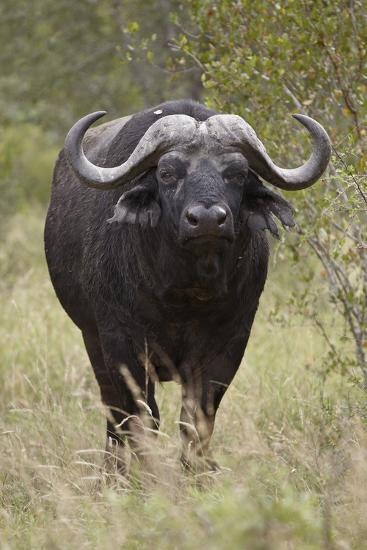buffalo: (42, 103, 333, 471)
